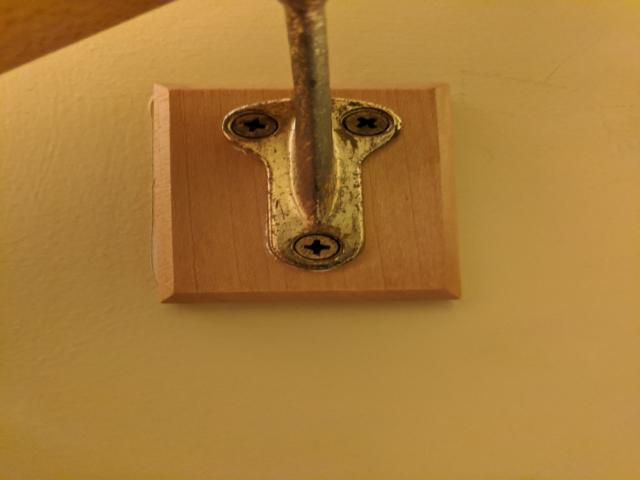CRS: (230, 112, 279, 138), (340, 110, 389, 135), (294, 234, 338, 259)
